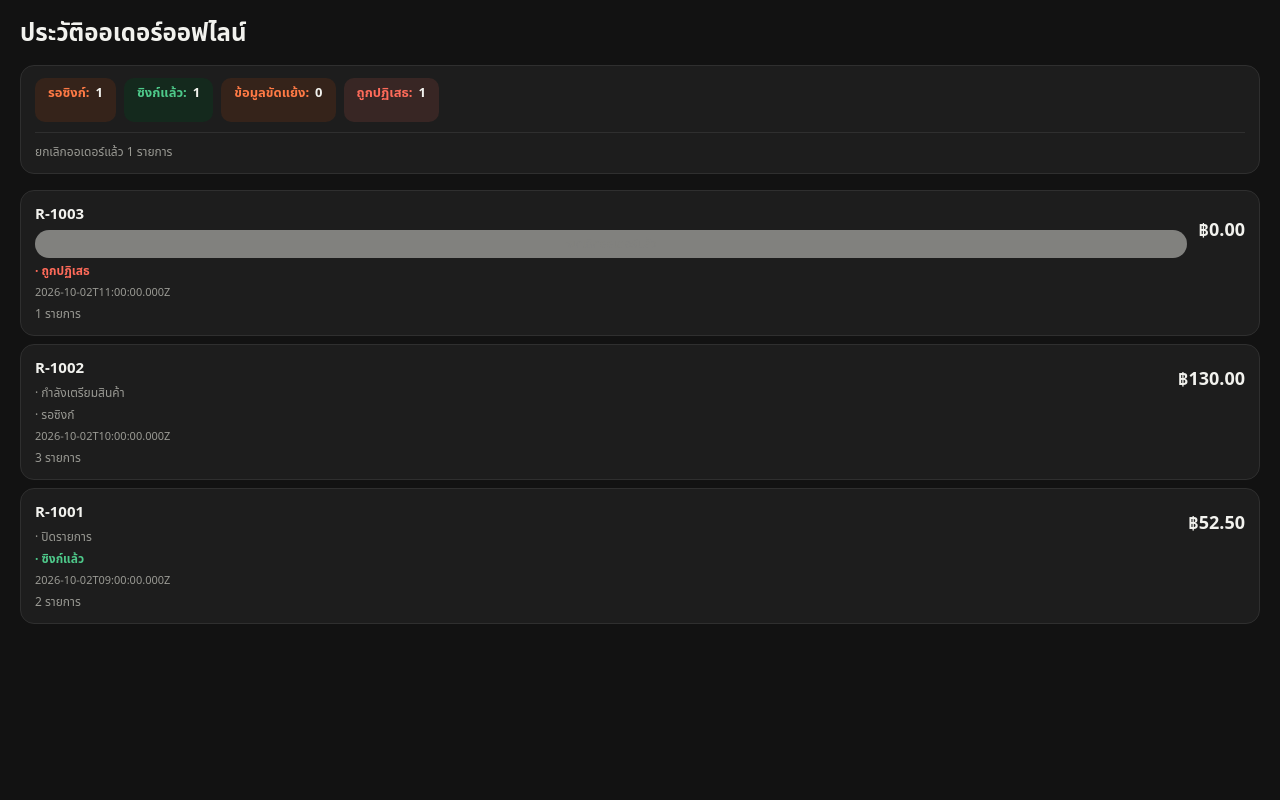
Scenario: OfflineOrdersView — the sync chips filter the list › pressing a chip again releases it
This screenshot has width=1280, height=800.
Click the button "รอซิงก์: 1" at [76, 100], box top-left (35, 78), bottom-right (116, 122)
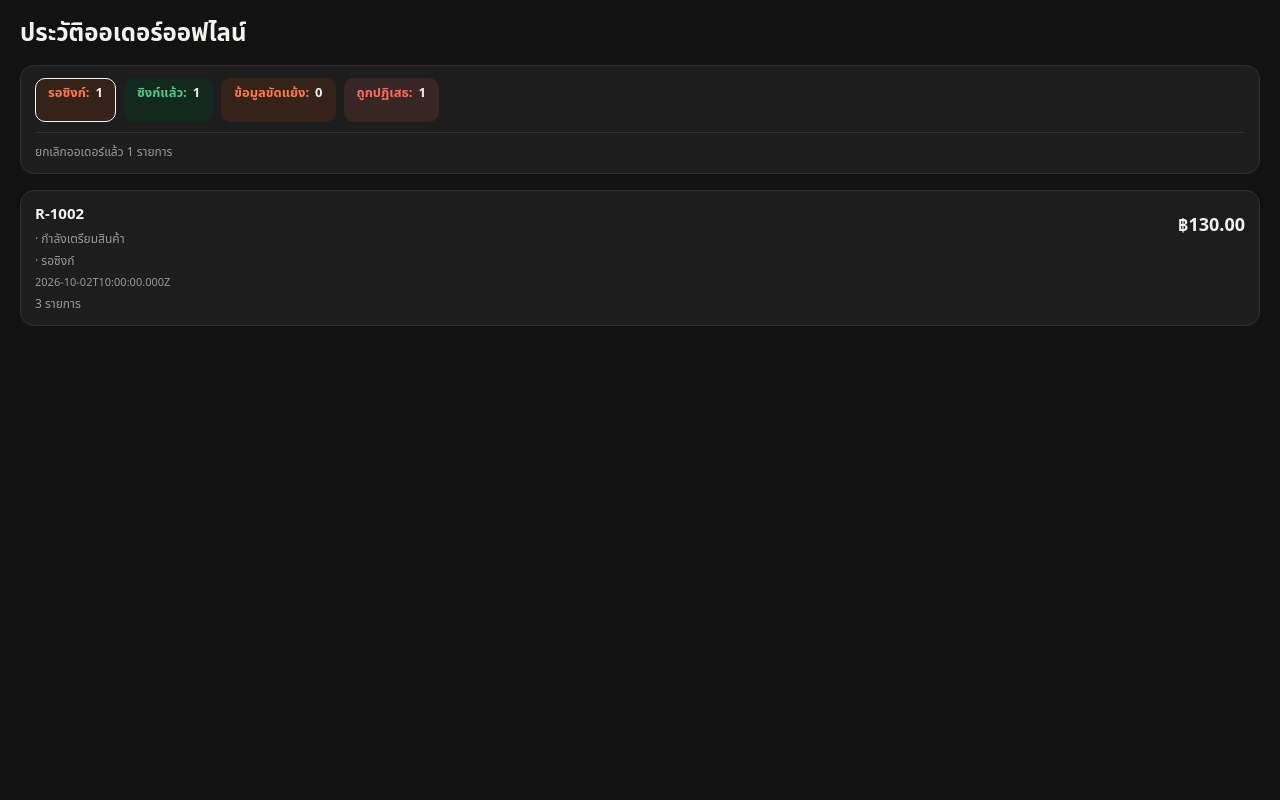
Check: the number of list items with test id "offline-order-row" is 1, box top-left (20, 190), bottom-right (1260, 326)
Click the button "รอซิงก์: 1" at [76, 100], box top-left (35, 78), bottom-right (116, 122)
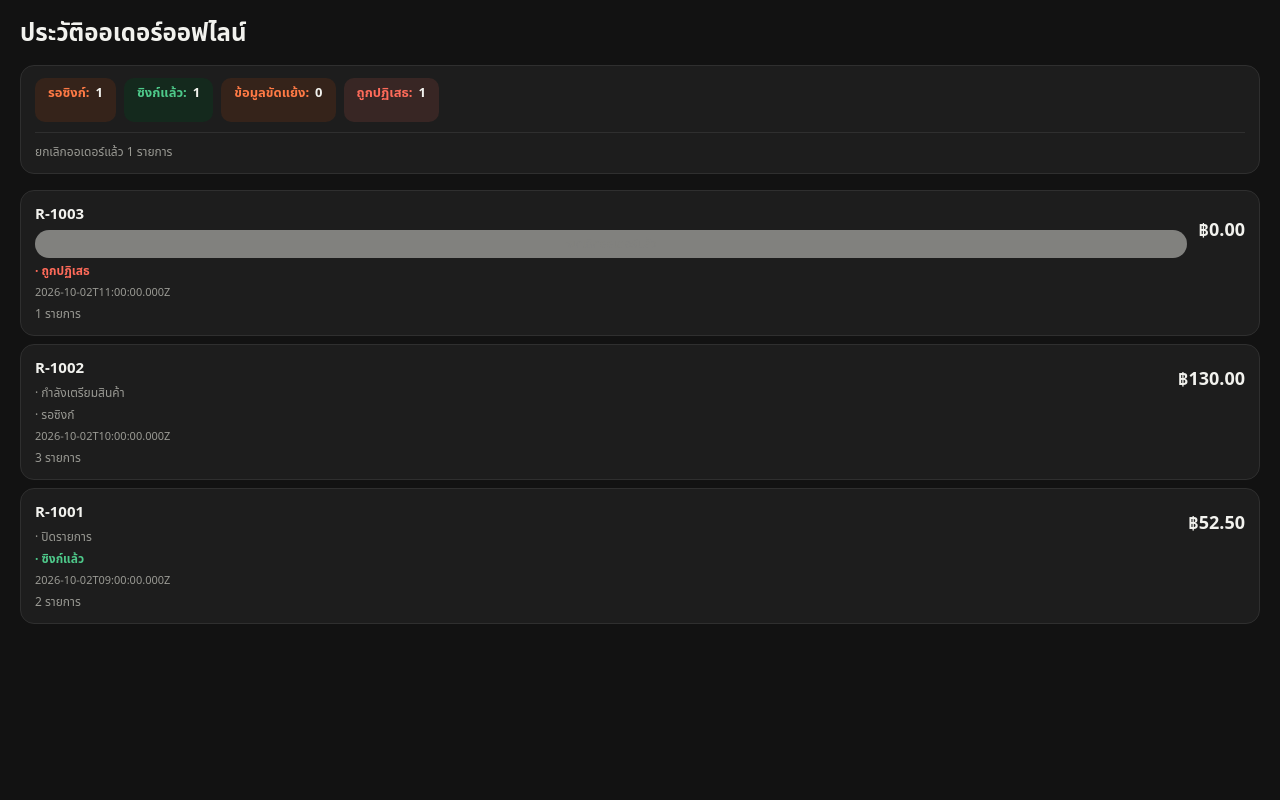
Check: the number of list items with test id "offline-order-row" is 3, box top-left (20, 190), bottom-right (1260, 336); top-left (20, 344), bottom-right (1260, 480); top-left (20, 488), bottom-right (1260, 624)
